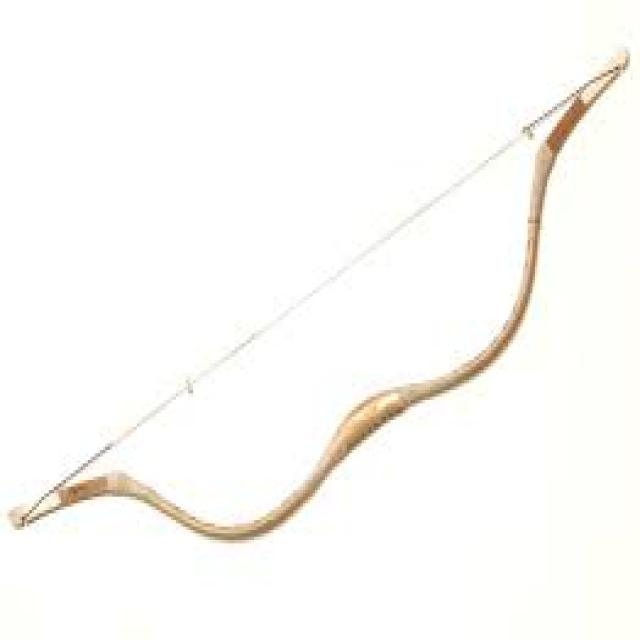X-Bow: (11, 50, 628, 538)
